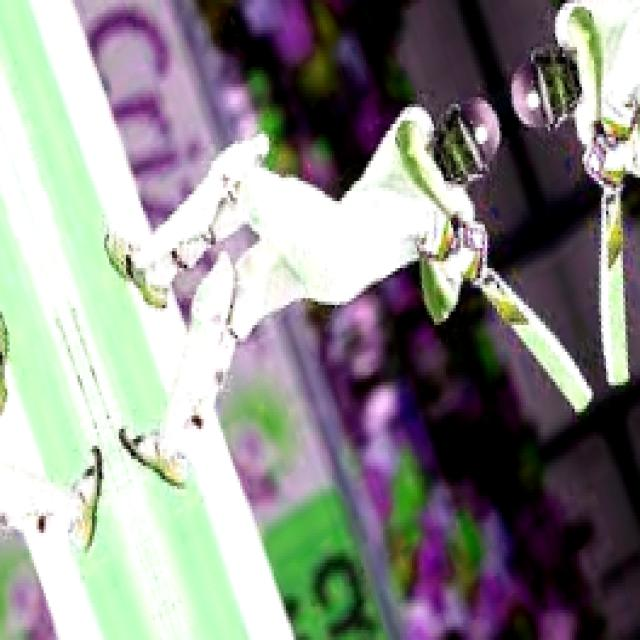toe: (570, 382, 594, 420)
